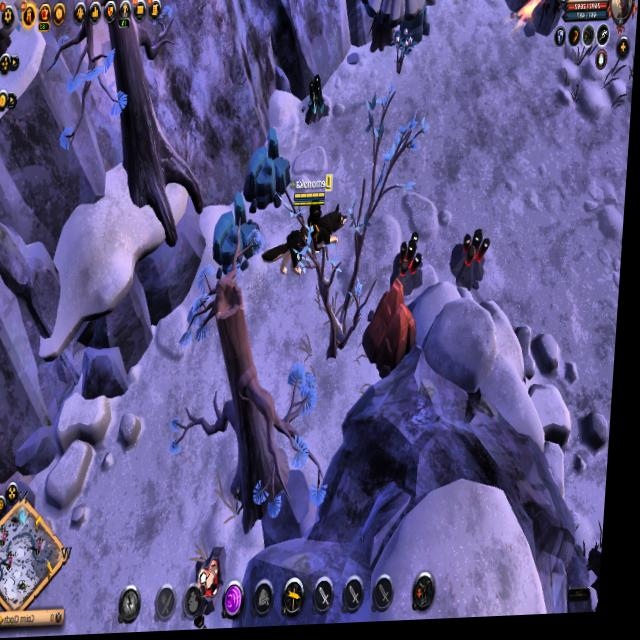fiber tier 4: (391, 29, 417, 77)
ore tier 4: (303, 77, 334, 134)
ore tier 5: (454, 231, 497, 298), (395, 234, 429, 295)
rock tier 4: (244, 130, 295, 221)
rock tier 5: (365, 285, 422, 386)
